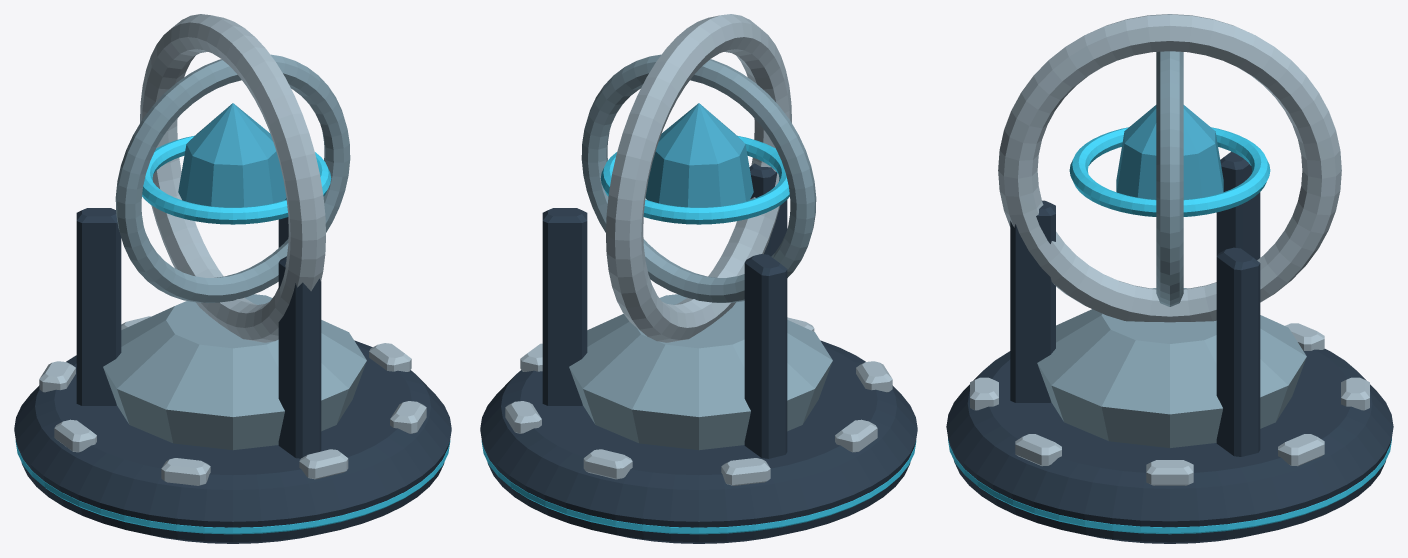
The model's file is gravity.obj.
3 views of the same model, side by side, from view 1: azimuth 30°, elevation 25°; view 2: azimuth 150°, elevation 25°; view 3: azimuth 270°, elevation 25° (orthographic). The views are drawn at different scales.
Parts seen in each view (by area): view 1: gravity; view 2: gravity; view 3: gravity.
Boxes of the visible parts, <box> form: gravity: <box>14,14,451,543</box>; gravity: <box>480,14,917,543</box>; gravity: <box>946,14,1393,543</box>.
Size of the model in its own units: 0.294 by 0.328 by 0.294.
